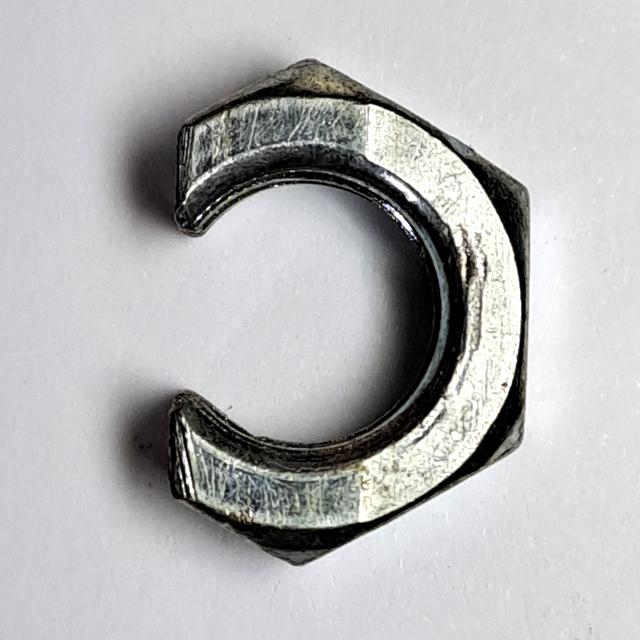Fracture: (151, 49, 547, 583)
